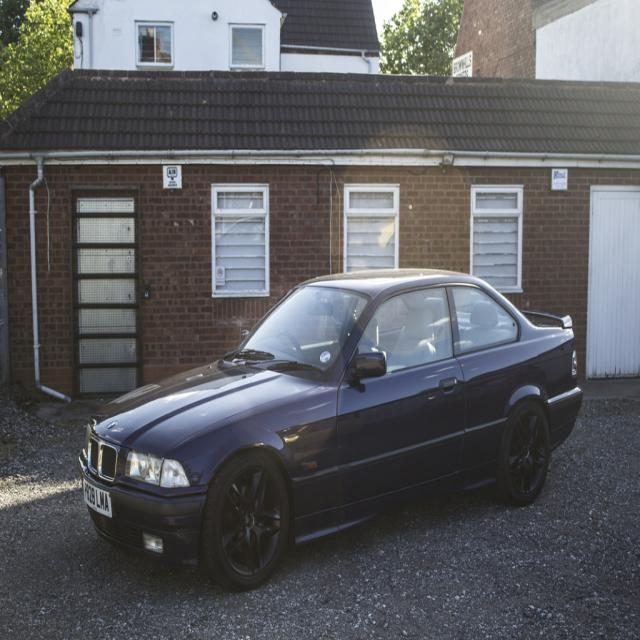car: (76, 266, 586, 592)
